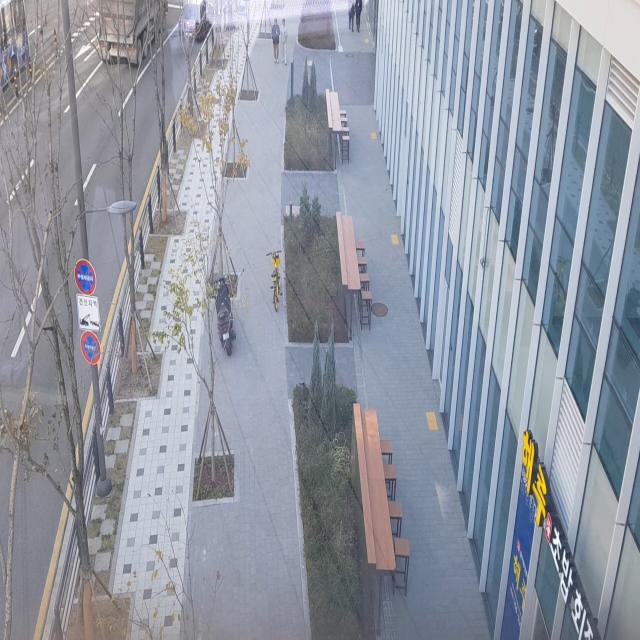Bus: (0, 0, 39, 111)
Car: (170, 0, 222, 50)
Truck: (95, 0, 172, 73)
